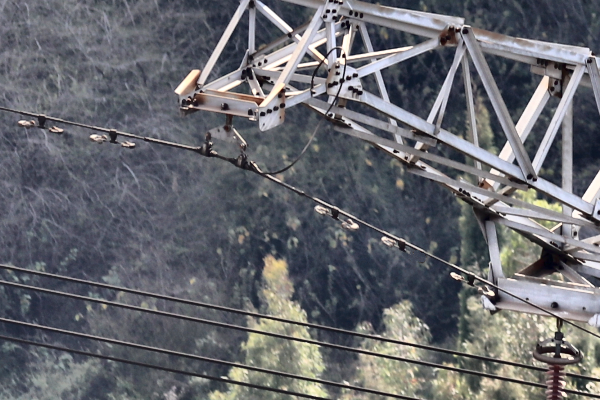damper: (311, 201, 361, 233), (445, 268, 498, 298), (86, 127, 138, 150), (15, 112, 65, 135)
damper_defect: (378, 234, 413, 255)
